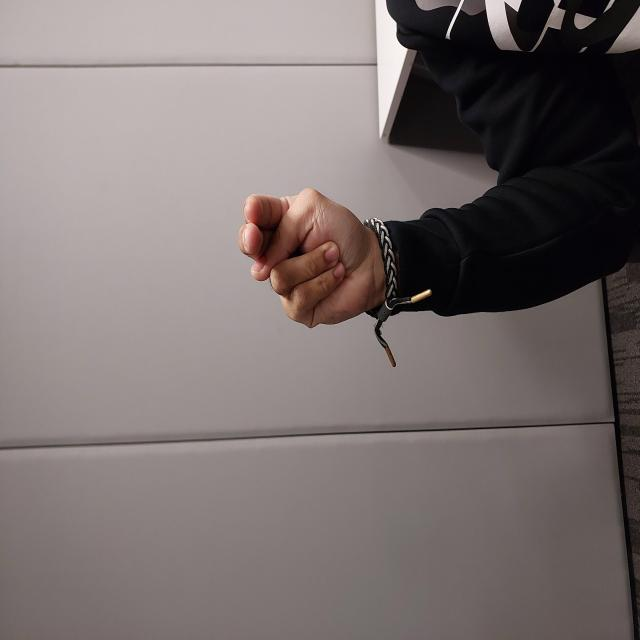N: (311, 236, 454, 377)
